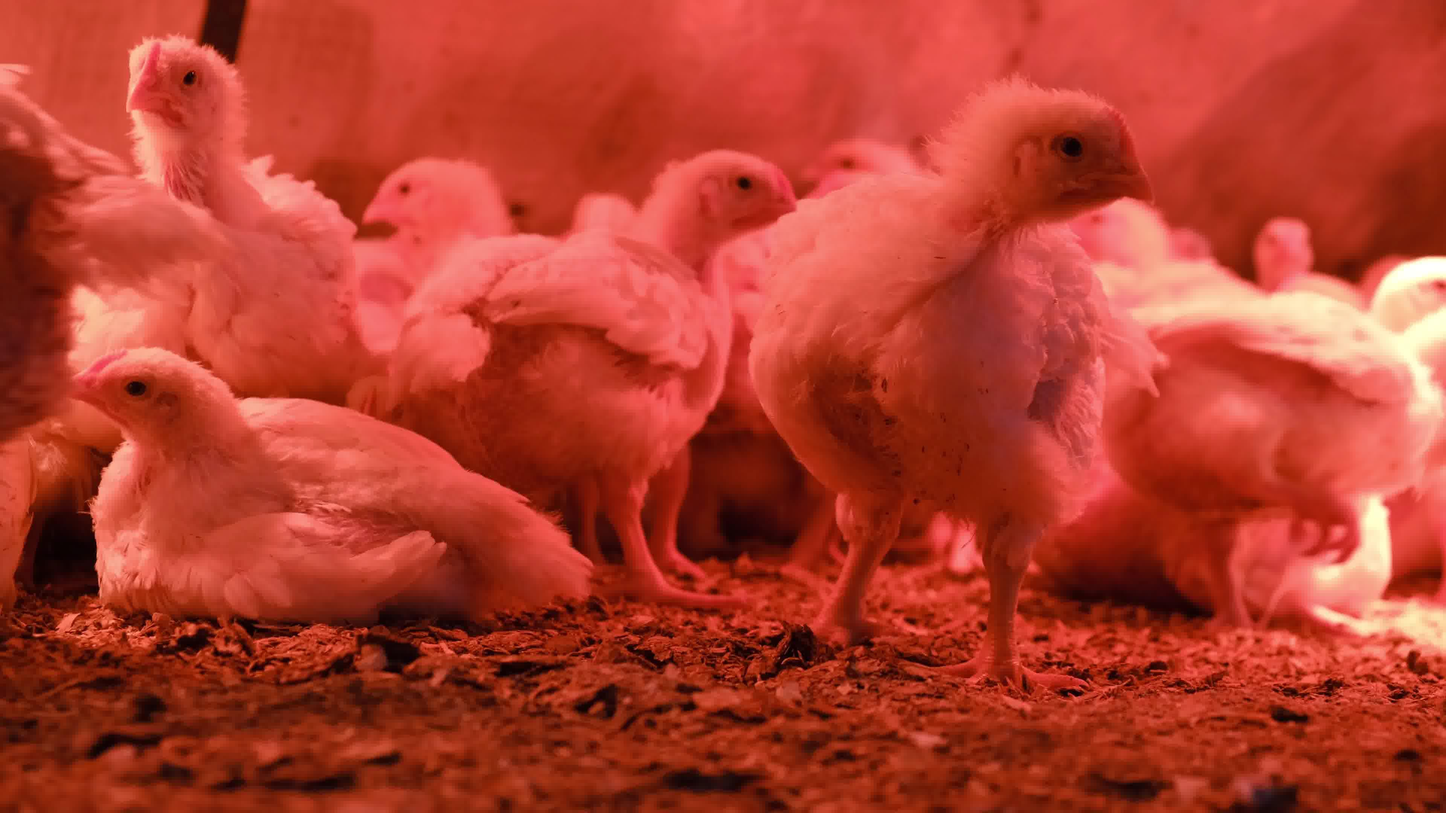AbNormal: (69, 343, 599, 620), (1153, 495, 1401, 637)
Normal: (748, 83, 1156, 699), (375, 149, 804, 611), (1106, 300, 1446, 645), (0, 62, 277, 458), (90, 30, 352, 414), (364, 158, 525, 258), (1069, 196, 1171, 291), (1234, 219, 1326, 313), (802, 128, 918, 188)
